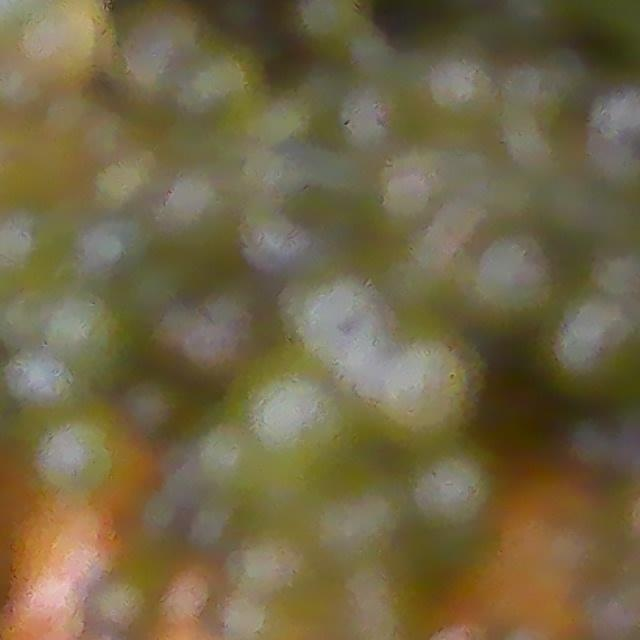SeaGrape: (365, 328, 485, 450), (453, 224, 562, 334), (244, 370, 347, 465), (288, 273, 384, 371), (36, 409, 126, 499), (28, 0, 113, 94), (38, 286, 126, 376), (410, 448, 497, 534), (194, 426, 261, 500), (73, 211, 144, 277), (5, 347, 75, 410), (290, 0, 372, 53), (210, 0, 269, 42)
